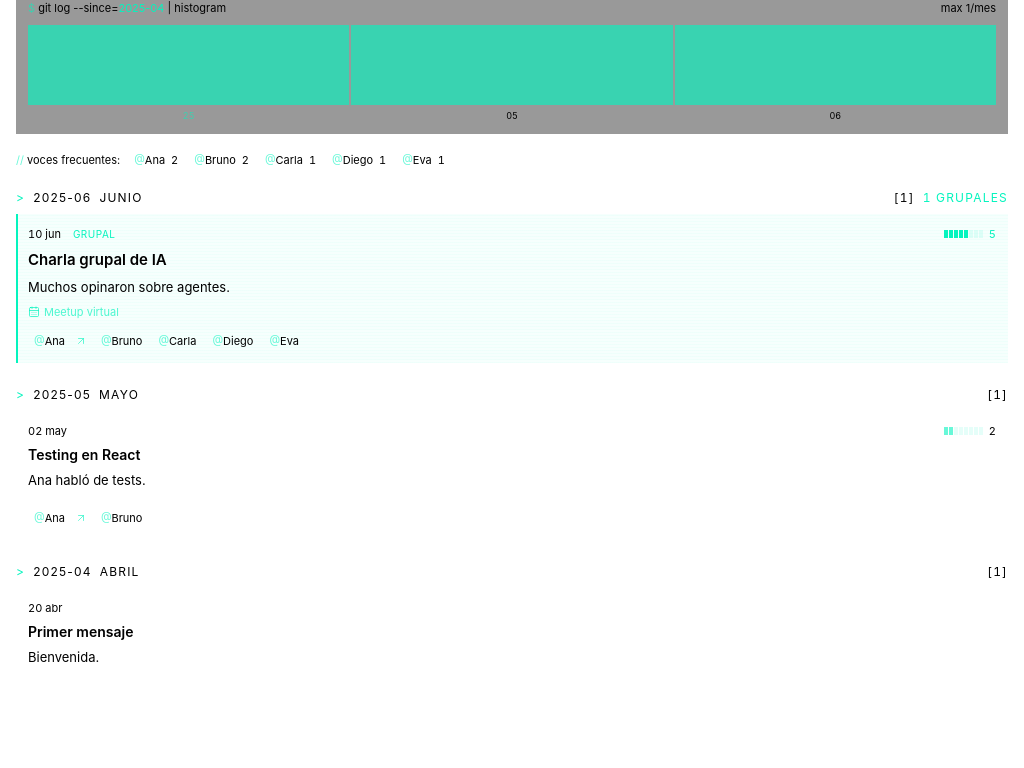
it: ConversationsClient › opens a conversation, steps through the list and filters from the dialog
This screenshot has width=1024, height=768.
(page scrolled)
Click the button "Testing en React" at (84, 455), box left=28, top=445, right=140, bottom=464
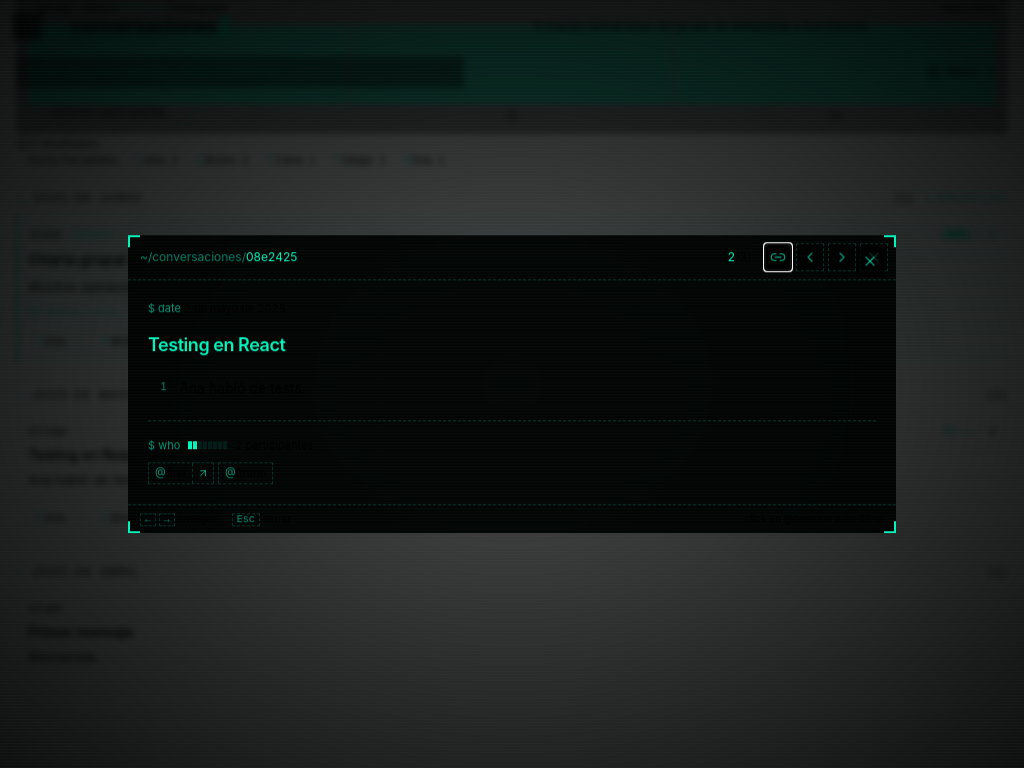
Click the button named "Siguiente" at (842, 257), box left=828, top=243, right=856, bottom=271
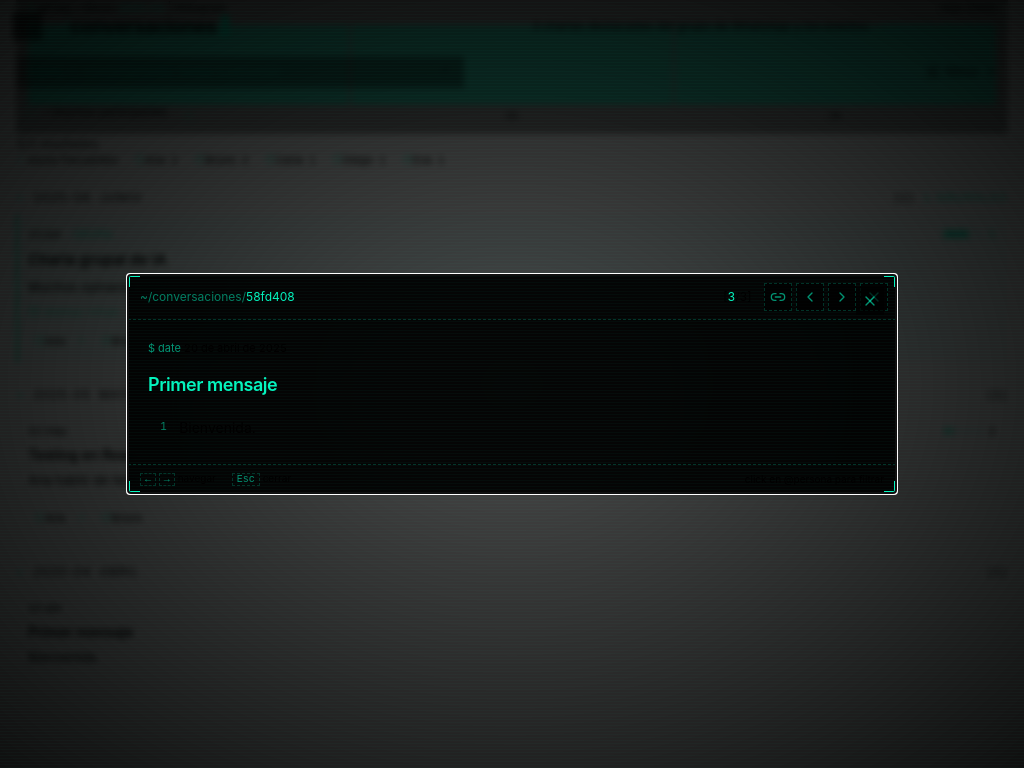
Expected: the dialog "Primer mensaje" is shown, left=128, top=275, right=896, bottom=493
Click the button named "Anterior" at (810, 297), box left=796, top=283, right=824, bottom=311
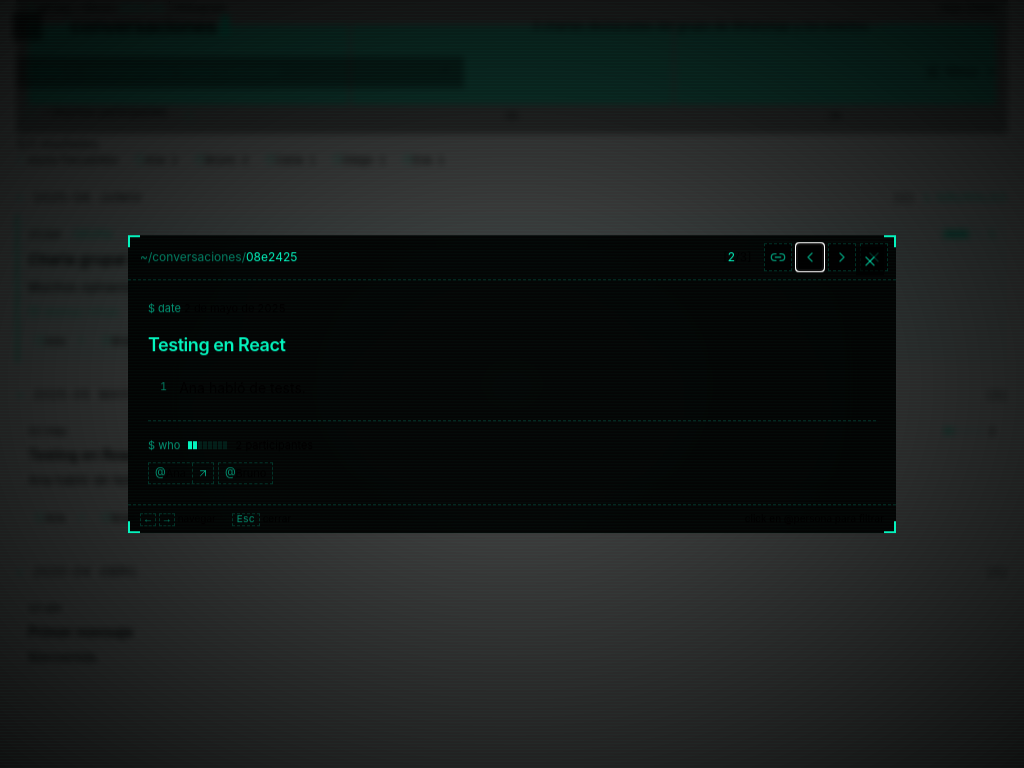
Click the button "@Bruno" at (246, 473), box left=219, top=463, right=272, bottom=483
(page scrolled)
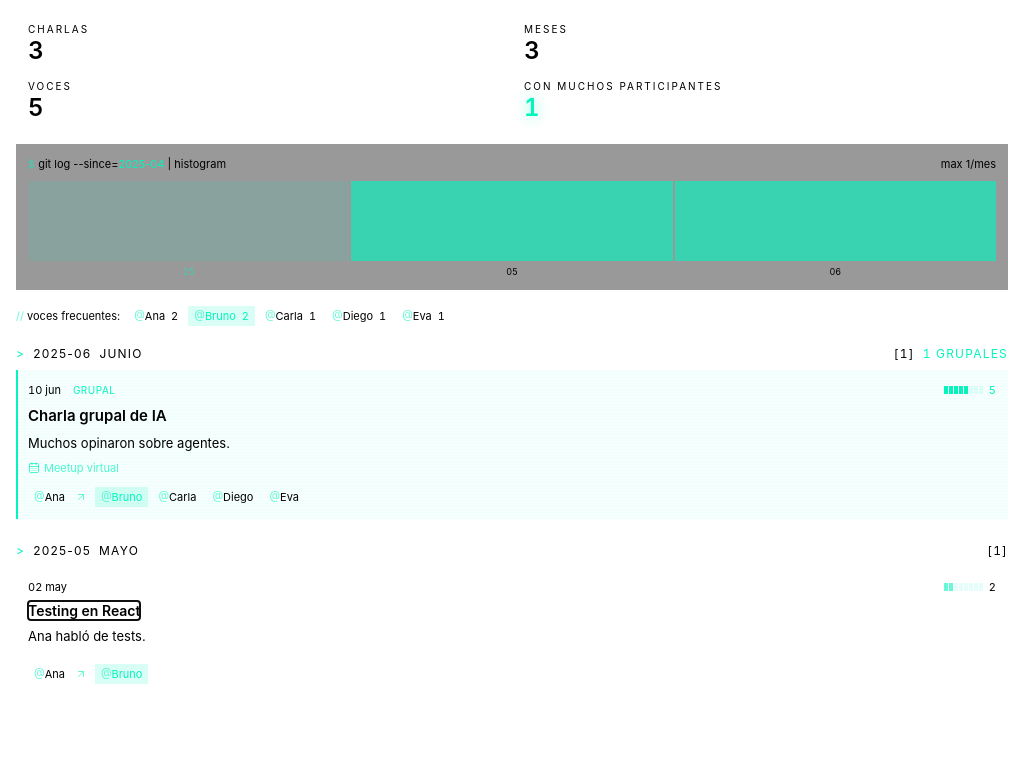
Expected: the dialog is gone
Click the button "Charla grupal de IA" at (97, 416), box left=28, top=404, right=167, bottom=427
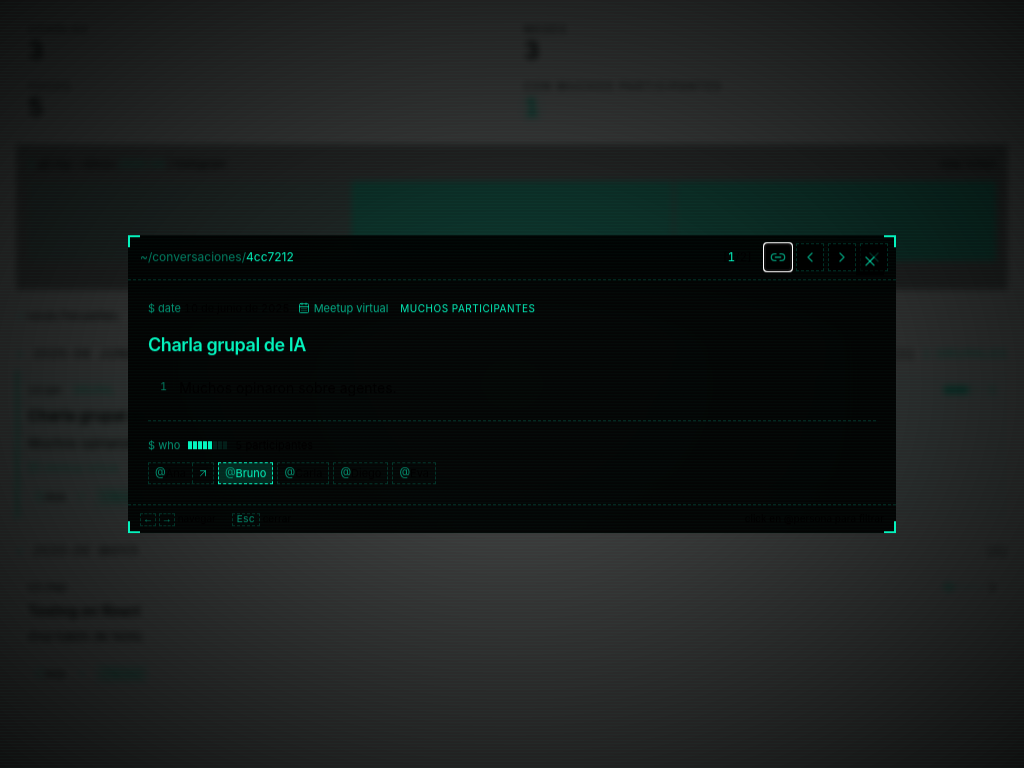
Press Escape
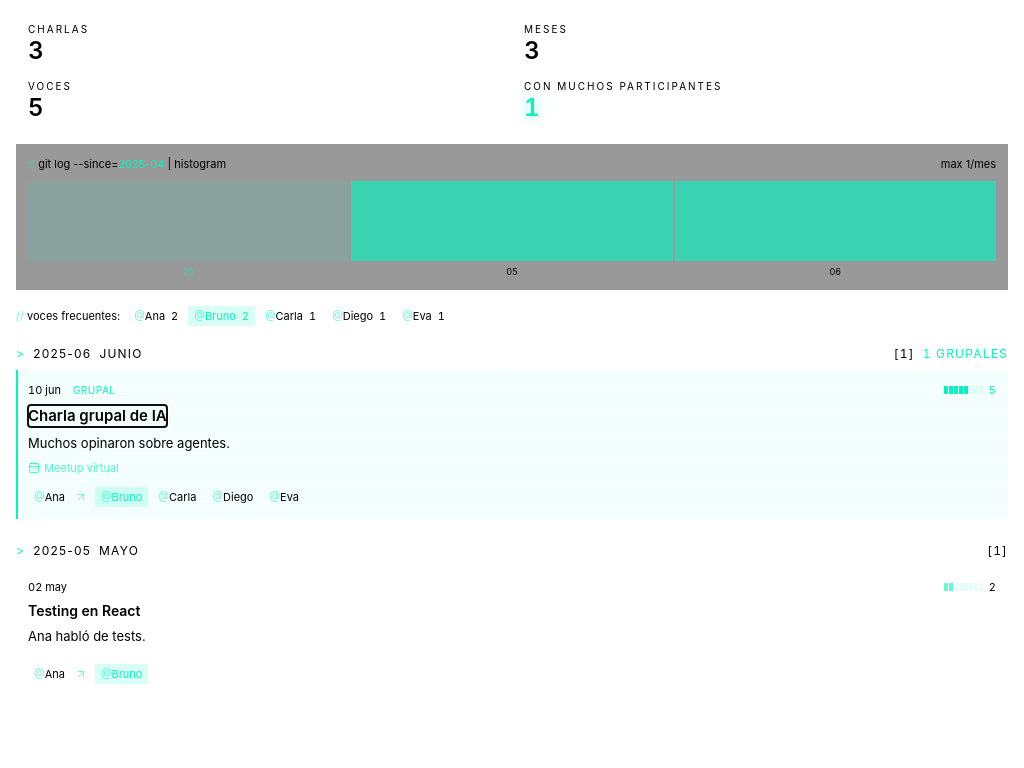
Expected: the dialog is gone
